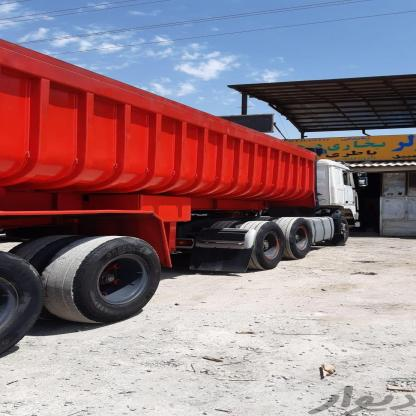Truck: (0, 23, 367, 370)
